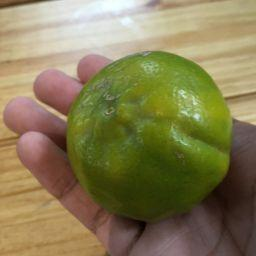Unripe: (69, 53, 231, 220)
